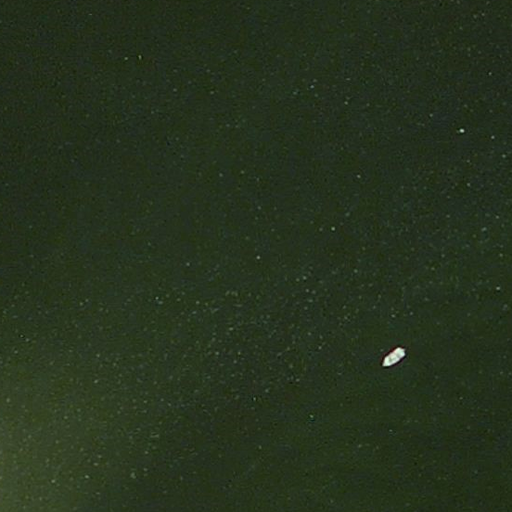ship: (377, 343, 409, 372)
